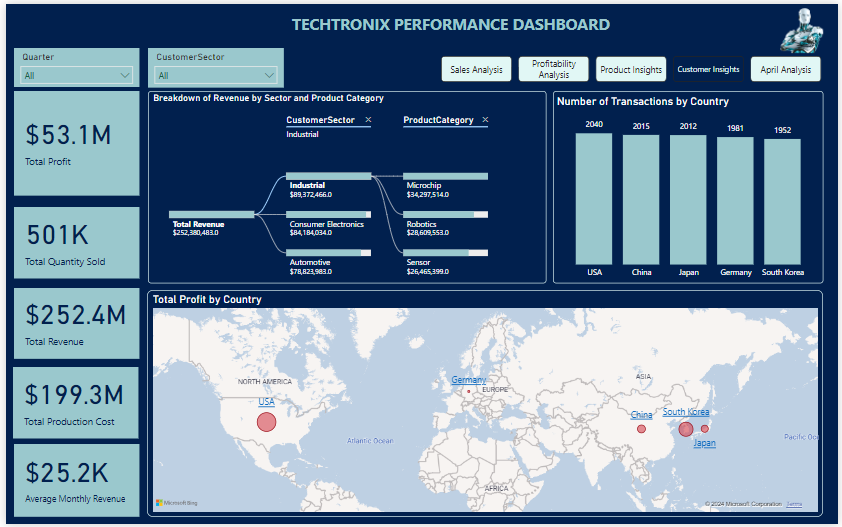

Layout of this report page (visuals, bound fields, positions):
{"tool":"powerbi","page":{"name":"Customer Insights","canvas":[1280,800],"ordinal":3},"visuals":[{"type":"cardVisual","fields":{"Data":["Calculated Measures.Total Profit"]},"box":[11.9,134.3,192.5,161.2],"z":0},{"type":"pageNavigator","box":[669.7,79.8,586.9,40.4],"z":1000},{"type":"cardVisual","fields":{"Data":["Calculated Measures.Total Qty Sold"]},"box":[11.9,311.9,192.5,110.4],"z":2000},{"type":"cardVisual","fields":{"Data":["Calculated Measures.Average Monthly Revenue"]},"box":[11.9,677.6,192.5,111.9],"z":3000},{"type":"cardVisual","fields":{"Data":["Calculated Measures.Total sales"]},"box":[11.9,437.3,192.5,109],"z":4000},{"type":"cardVisual","fields":{"Data":["Calculated Measures.Total Production Cost"]},"box":[10.4,558.2,192.5,110.4],"z":5000},{"type":"textbox","box":[144.8,9,1079.1,49.3],"z":6000},{"type":"decompositionTreeVisual","title":"Breakdown of Revenue by Sector and Product Category","fields":{"ExplainBy":["Customer Dim.CustomerSector","Product Dim.ProductCategory"],"Analyze":["Calculated Measures.Total sales"]},"box":[218,134,613,296],"z":7000},{"type":"clusteredColumnChart","fields":{"Category":["Location Dim.Country"],"Y":["Calculated Measures.Number of Transactions"]},"box":[841,134,416,296],"z":8000},{"type":"map","fields":{"Category":["Location Dim.Country"],"Size":["Calculated Measures.Total Profit"]},"box":[216.9,440,1040,349.2],"z":9000},{"type":"slicer","fields":{"Values":["Calendar Dim.Quarter"]},"box":[12,67,193,60],"z":10000},{"type":"image","box":[1169.7,1,110.1,78.8],"z":11000},{"type":"slicer","fields":{"Values":["Customer Dim.CustomerSector"]},"box":[218,67,209,61],"z":12000}]}

Visuals, with their boxes in screenshot pixels (x1, y1, x2, y2), scaled from the page's 1280x800 canvas onto the 842x527 screenshot:
cardVisual - Calculated Measures.Total Profit: rect(8, 88, 134, 195)
pageNavigator: rect(441, 53, 827, 79)
cardVisual - Calculated Measures.Total Qty Sold: rect(8, 205, 134, 278)
cardVisual - Calculated Measures.Average Monthly Revenue: rect(8, 446, 134, 520)
cardVisual - Calculated Measures.Total sales: rect(8, 288, 134, 360)
cardVisual - Calculated Measures.Total Production Cost: rect(7, 368, 133, 440)
textbox: rect(95, 6, 805, 38)
"Breakdown of Revenue by Sector and Product Category" decompositionTreeVisual: rect(143, 88, 547, 283)
clusteredColumnChart - Location Dim.Country x Calculated Measures.Number of Transactions: rect(553, 88, 827, 283)
map - Location Dim.Country x Calculated Measures.Total Profit: rect(143, 290, 827, 520)
slicer - Calendar Dim.Quarter: rect(8, 44, 135, 84)
image: rect(769, 1, 841, 53)
slicer - Customer Dim.CustomerSector: rect(143, 44, 281, 84)
